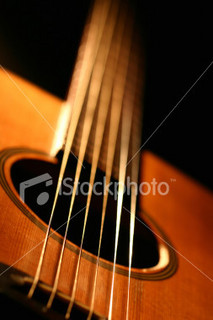guitar: (1, 1, 212, 320)
